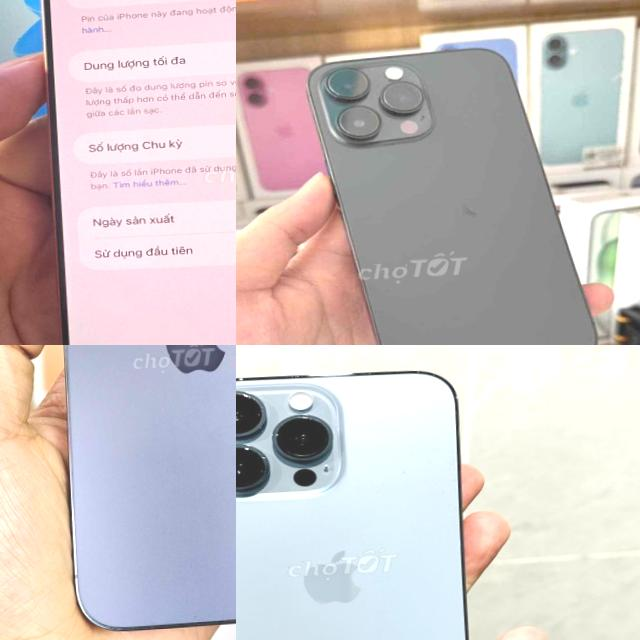gen_12_13: (236, 363, 497, 640)
gen_14: (292, 33, 614, 345), (42, 345, 236, 637)
gen_17: (26, 0, 236, 345)
